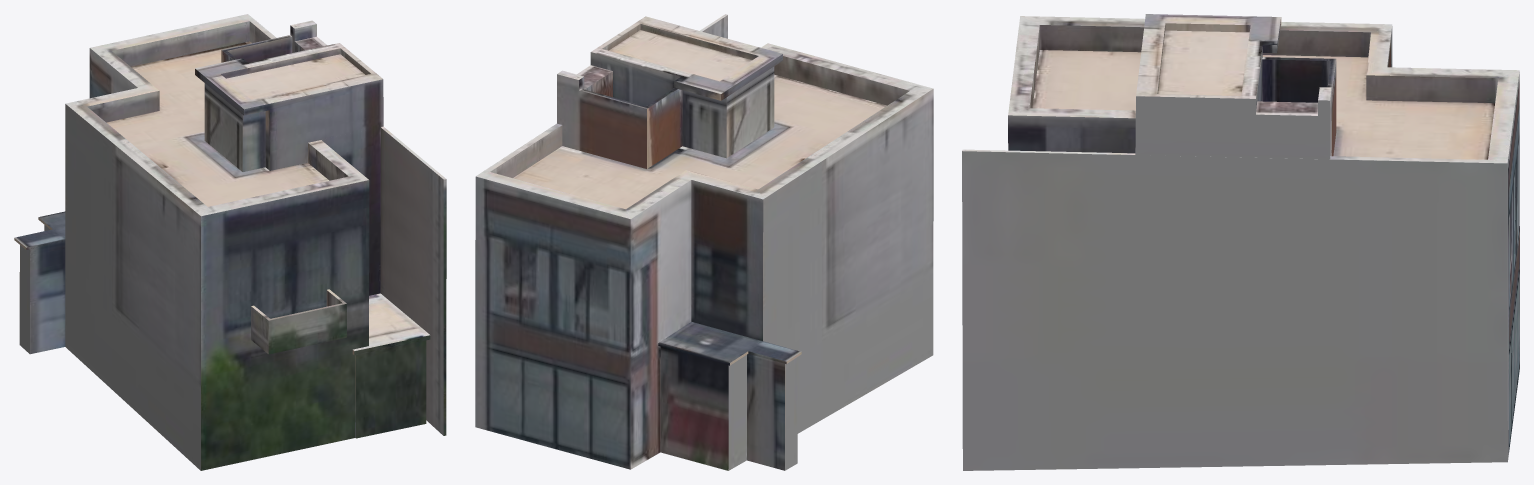
3 renders of one model, left to right at view 1: azimuth 30°, elevation 25°; view 2: azimuth 150°, elevation 25°; view 3: azimuth 270°, elevation 25°, orthographic. The views are drawn at different scales.
Parts seen in each view (by area): view 1: B285934029501062A0; view 2: B285934029501062A0; view 3: B285934029501062A0.
Boxes of the visible parts, box(x1,y1,x2,y2) form: B285934029501062A0: box(14, 14, 446, 470); B285934029501062A0: box(475, 14, 933, 470); B285934029501062A0: box(962, 14, 1519, 470).
Size of the model in its own units: 10.41 by 11.33 by 15.13.
1 material, 1 textured.
